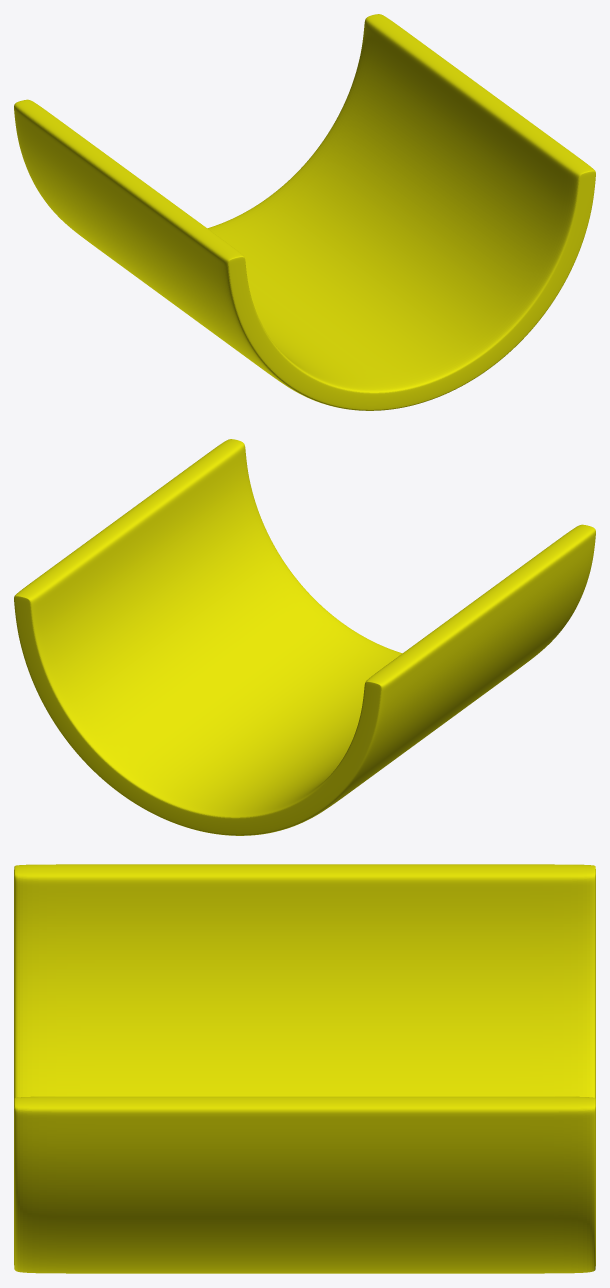
The model's file is half pipe.fbx.
The picture shows the model from 3 angles, top to bottom: view 1: azimuth 30°, elevation 25°; view 2: azimuth 150°, elevation 25°; view 3: azimuth 270°, elevation 25°; orthographic projection. The views are drawn at different scales.
Visible parts, largest first — view 1: Cylinder; view 2: Cylinder; view 3: Cylinder.
Part boxes in pixels (<box>): Cylinder: <box>14,14,595,410</box>; Cylinder: <box>14,439,595,835</box>; Cylinder: <box>14,864,595,1273</box>.
Size of the model in its own units: 99.64 by 49.61 by 99.82.
